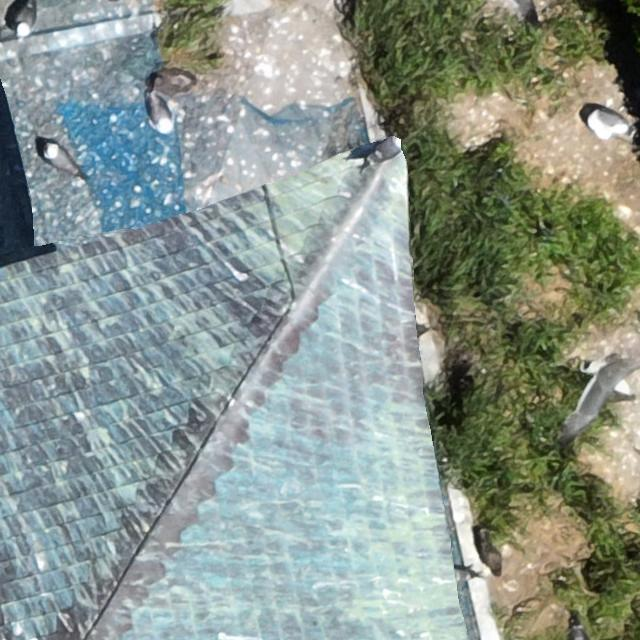F: (568, 351, 637, 435)
umineko: (589, 113, 624, 137), (368, 137, 402, 159), (44, 146, 72, 171), (150, 100, 170, 131), (18, 7, 33, 36), (570, 624, 588, 639)
